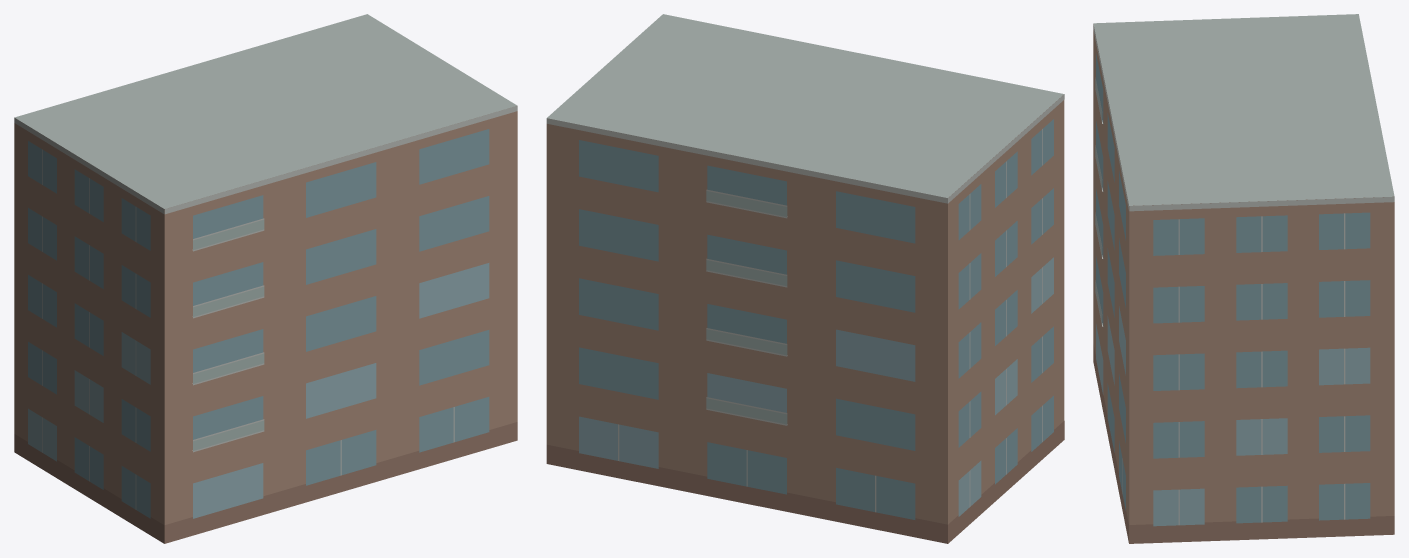
The model's file is survey-upis-32929148.glb.
3 renders of one model, left to right at view 1: azimuth 30°, elevation 25°; view 2: azimuth 150°, elevation 25°; view 3: azimuth 270°, elevation 25°, orthographic. The views are drawn at different scales.
Visible parts, largest first — view 1: survey-upis-32929148.tmp; view 2: survey-upis-32929148.tmp; view 3: survey-upis-32929148.tmp.
Part boxes in pixels (box(x1,y1,x2,y2)): survey-upis-32929148.tmp: box(14, 14, 517, 543); survey-upis-32929148.tmp: box(546, 14, 1064, 543); survey-upis-32929148.tmp: box(1093, 14, 1394, 543).
Size of the model in its own units: 18.58 by 15.25 by 12.33.
